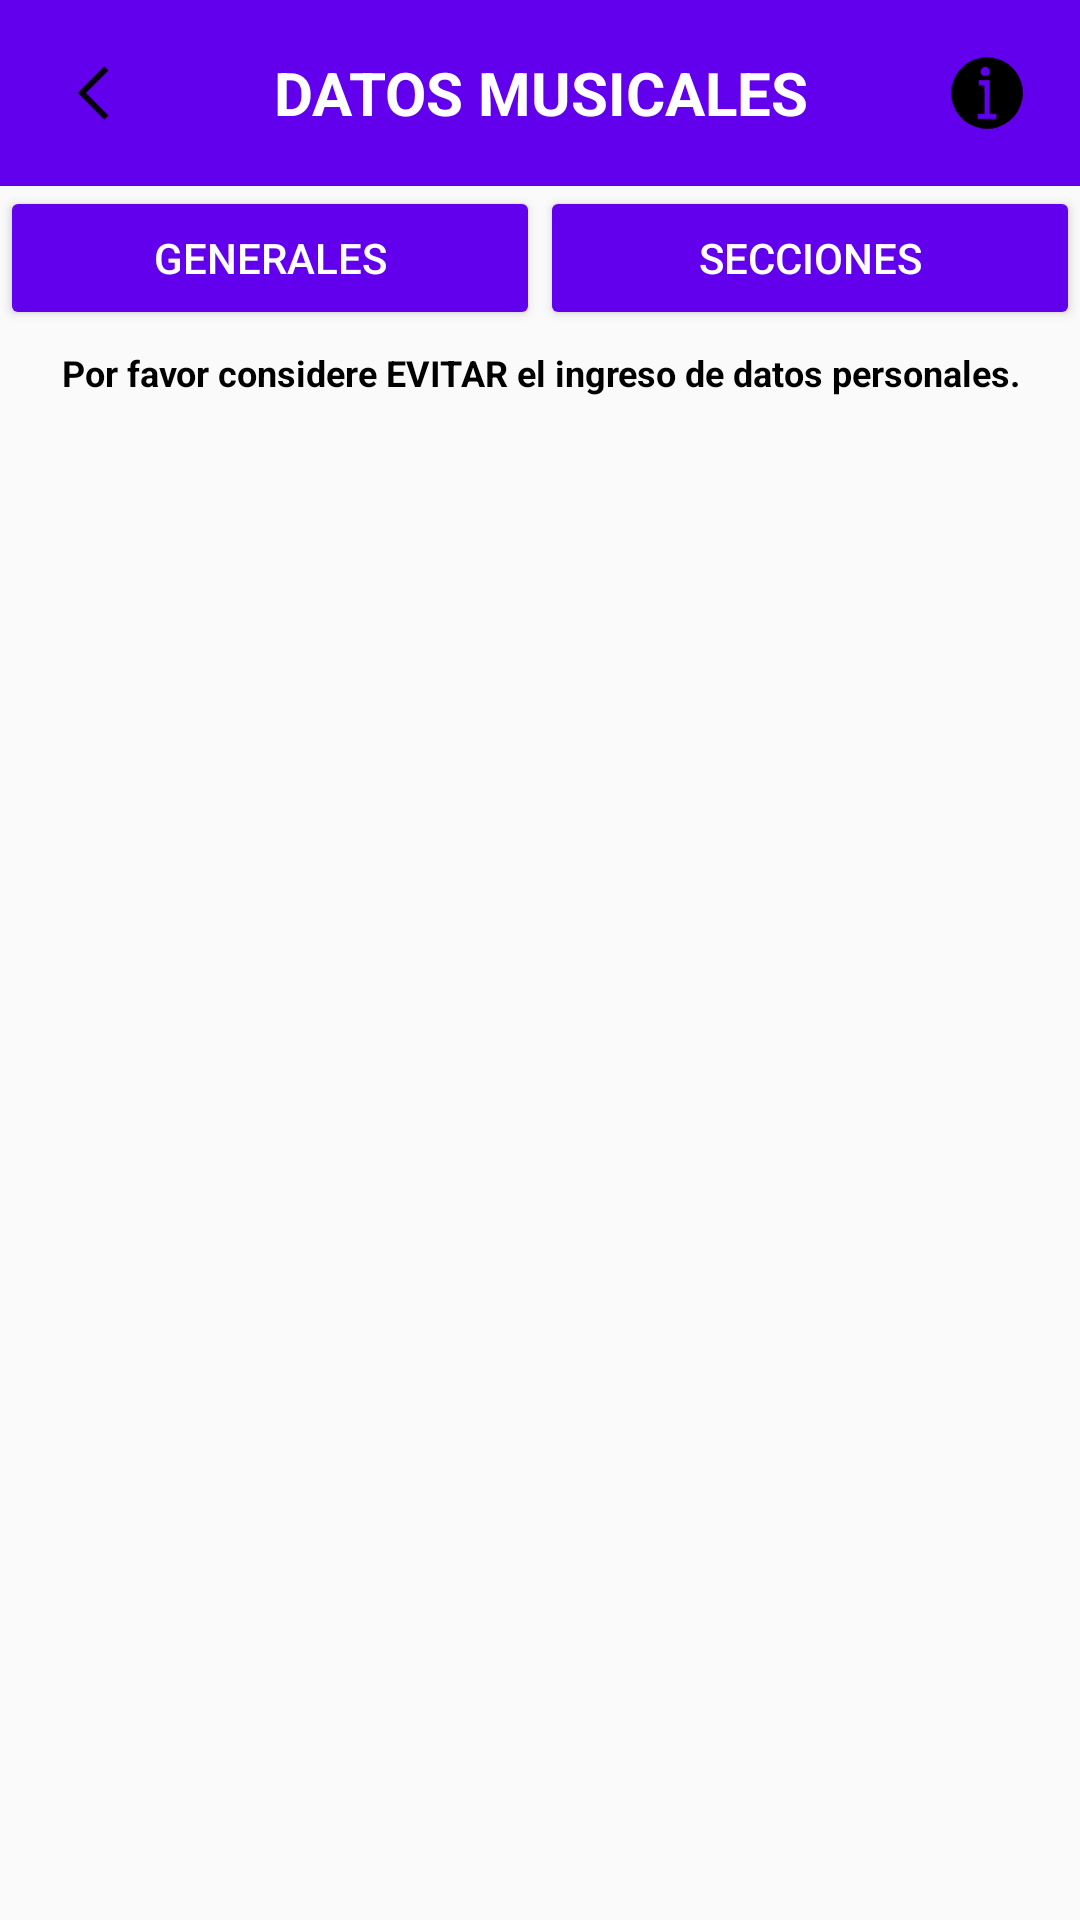

Icon bounding boxes for this 1080px x 1920px phone screenshot, format region(x1, y1, x2, y2):
Información: region(951, 57, 1023, 129)
Volver: region(78, 66, 109, 120)
